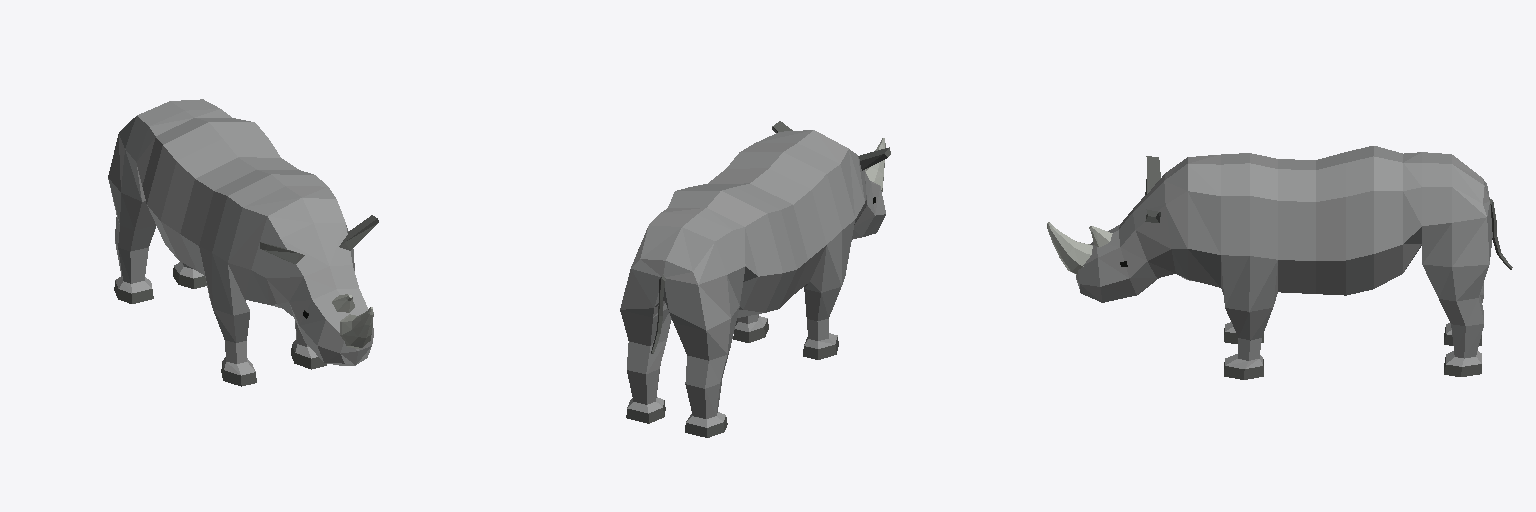
3 views of the same model, side by side, from view 1: azimuth 30°, elevation 25°; view 2: azimuth 150°, elevation 25°; view 3: azimuth 270°, elevation 25° (orthographic).
Parts seen in each view (by area): view 1: Geo_Rhinoceros; view 2: Geo_Rhinoceros; view 3: Geo_Rhinoceros.
Part boxes in pixels (x1,y1,x2,y2): Geo_Rhinoceros: (108, 99, 378, 386); Geo_Rhinoceros: (620, 121, 890, 437); Geo_Rhinoceros: (1047, 146, 1512, 379).
Bounding box in the file's own units: 79.74 × 122 × 258.
Materials: 1 (1 with a texture image).